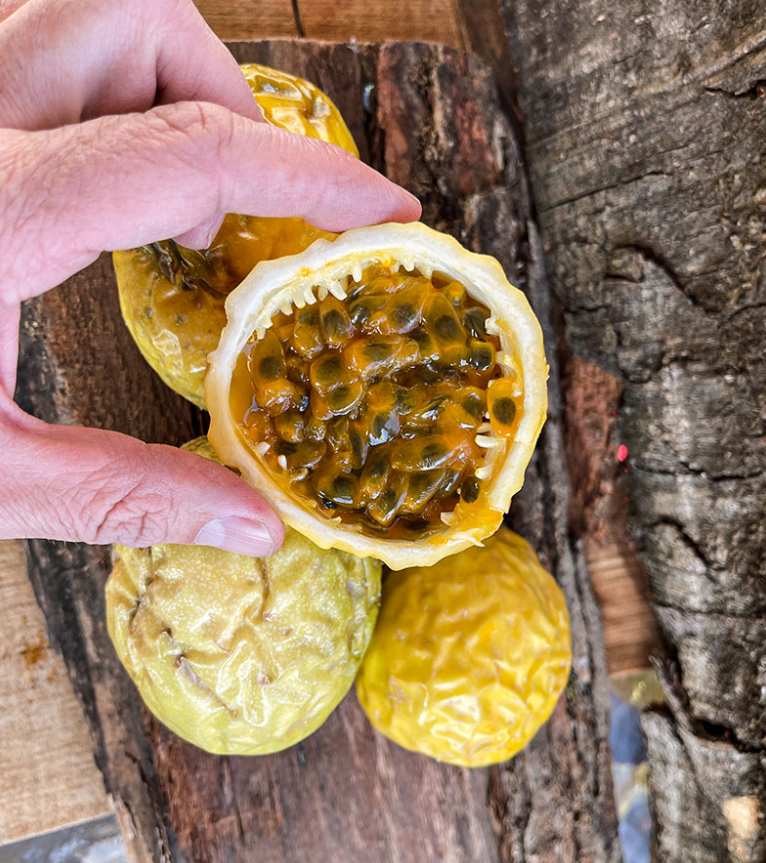maracuya: (99, 423, 382, 761), (345, 528, 587, 773)
